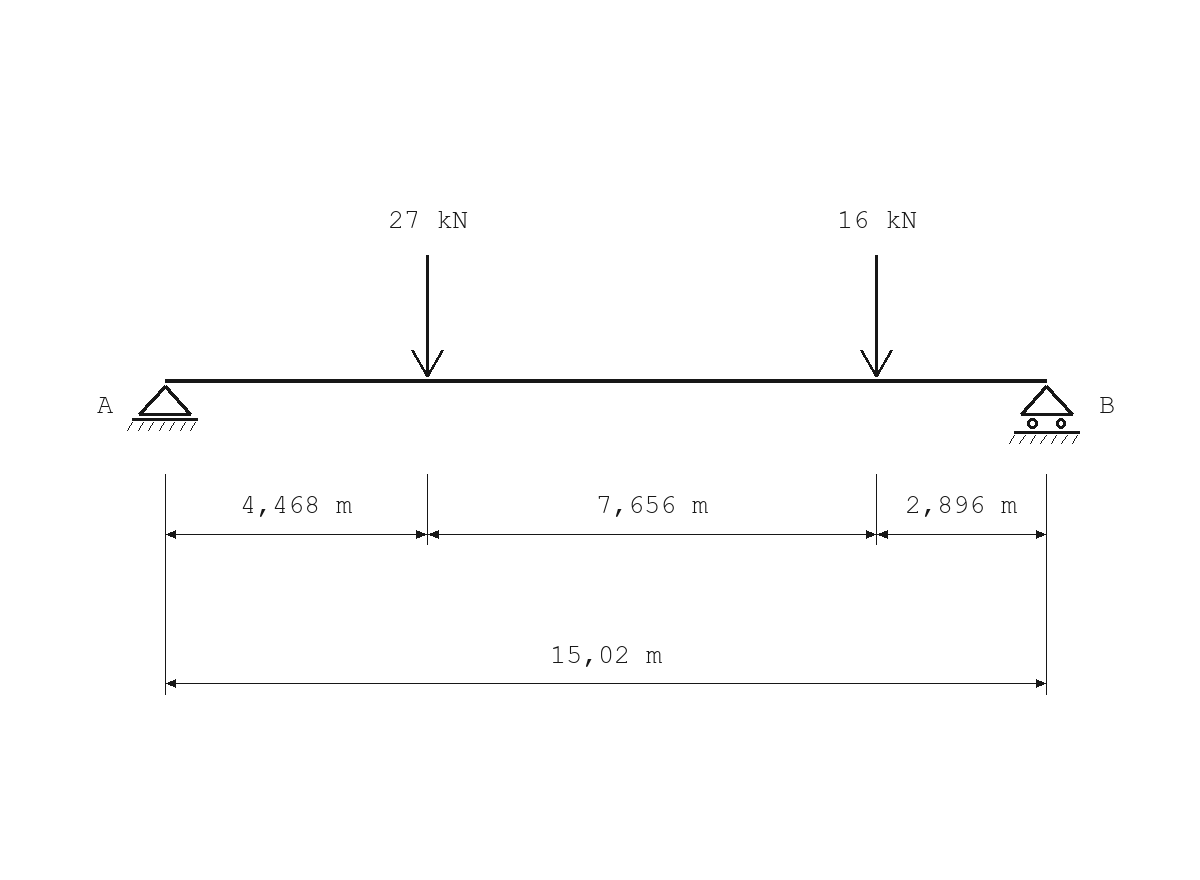pin_support: (127, 385, 198, 431)
point_load: (411, 255, 444, 377), (860, 255, 893, 377)
roller_support: (1009, 385, 1080, 444)
